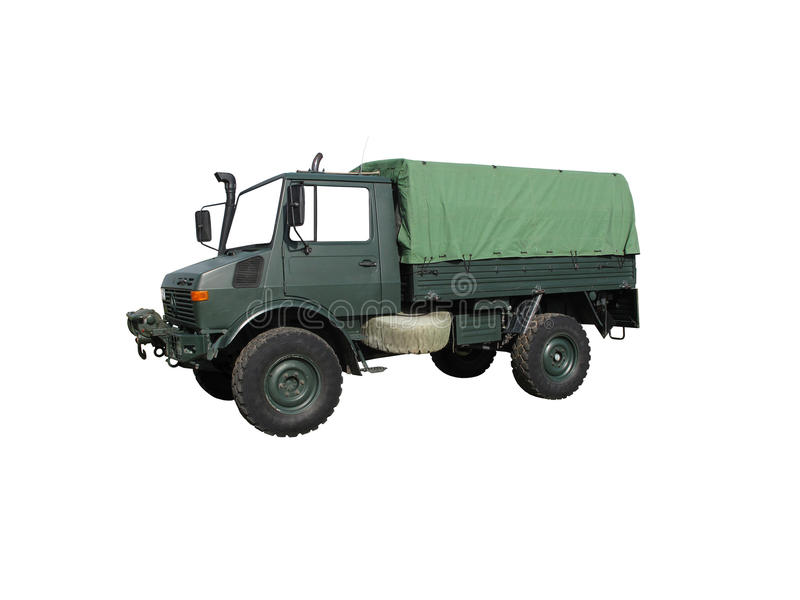camion: (136, 160, 638, 419)
